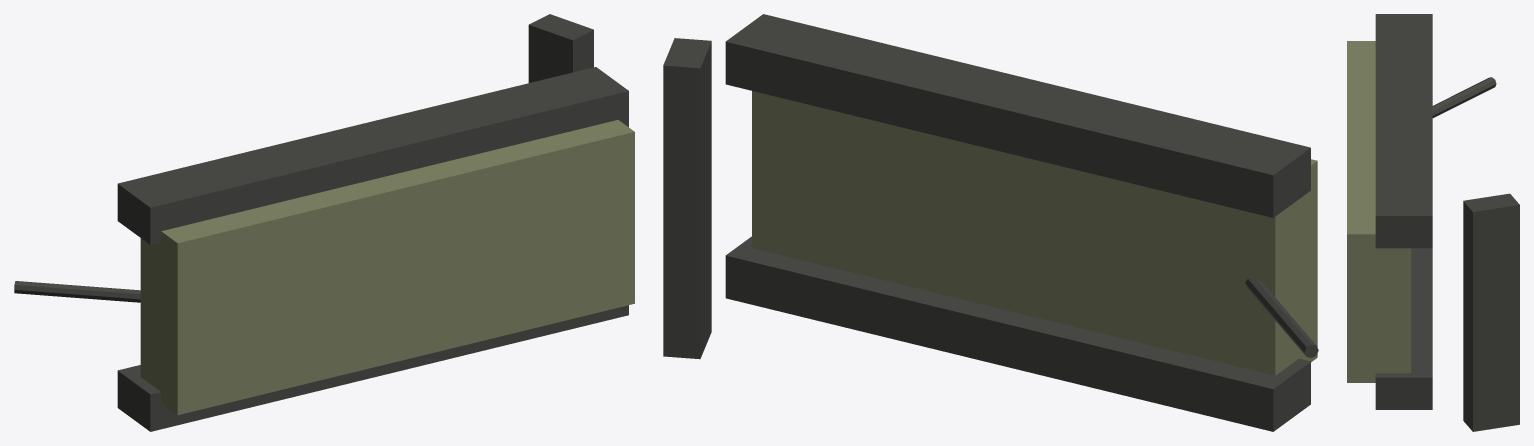
Rendered from eng_veh.glb.
3 views of the same model, side by side, from view 1: azimuth 30°, elevation 25°; view 2: azimuth 150°, elevation 25°; view 3: azimuth 270°, elevation 25° (orthographic). The views are drawn at different scales.
Visible parts, largest first — view 1: geometry_0; view 2: geometry_0; view 3: geometry_0.
Boxes of the visible parts, left/top/right/bottom form: geometry_0: left=14, top=14, right=634, bottom=431; geometry_0: left=663, top=14, right=1318, bottom=431; geometry_0: left=1347, top=14, right=1519, bottom=431.
Size of the model in its own units: 8 by 3.4 by 2.42.
